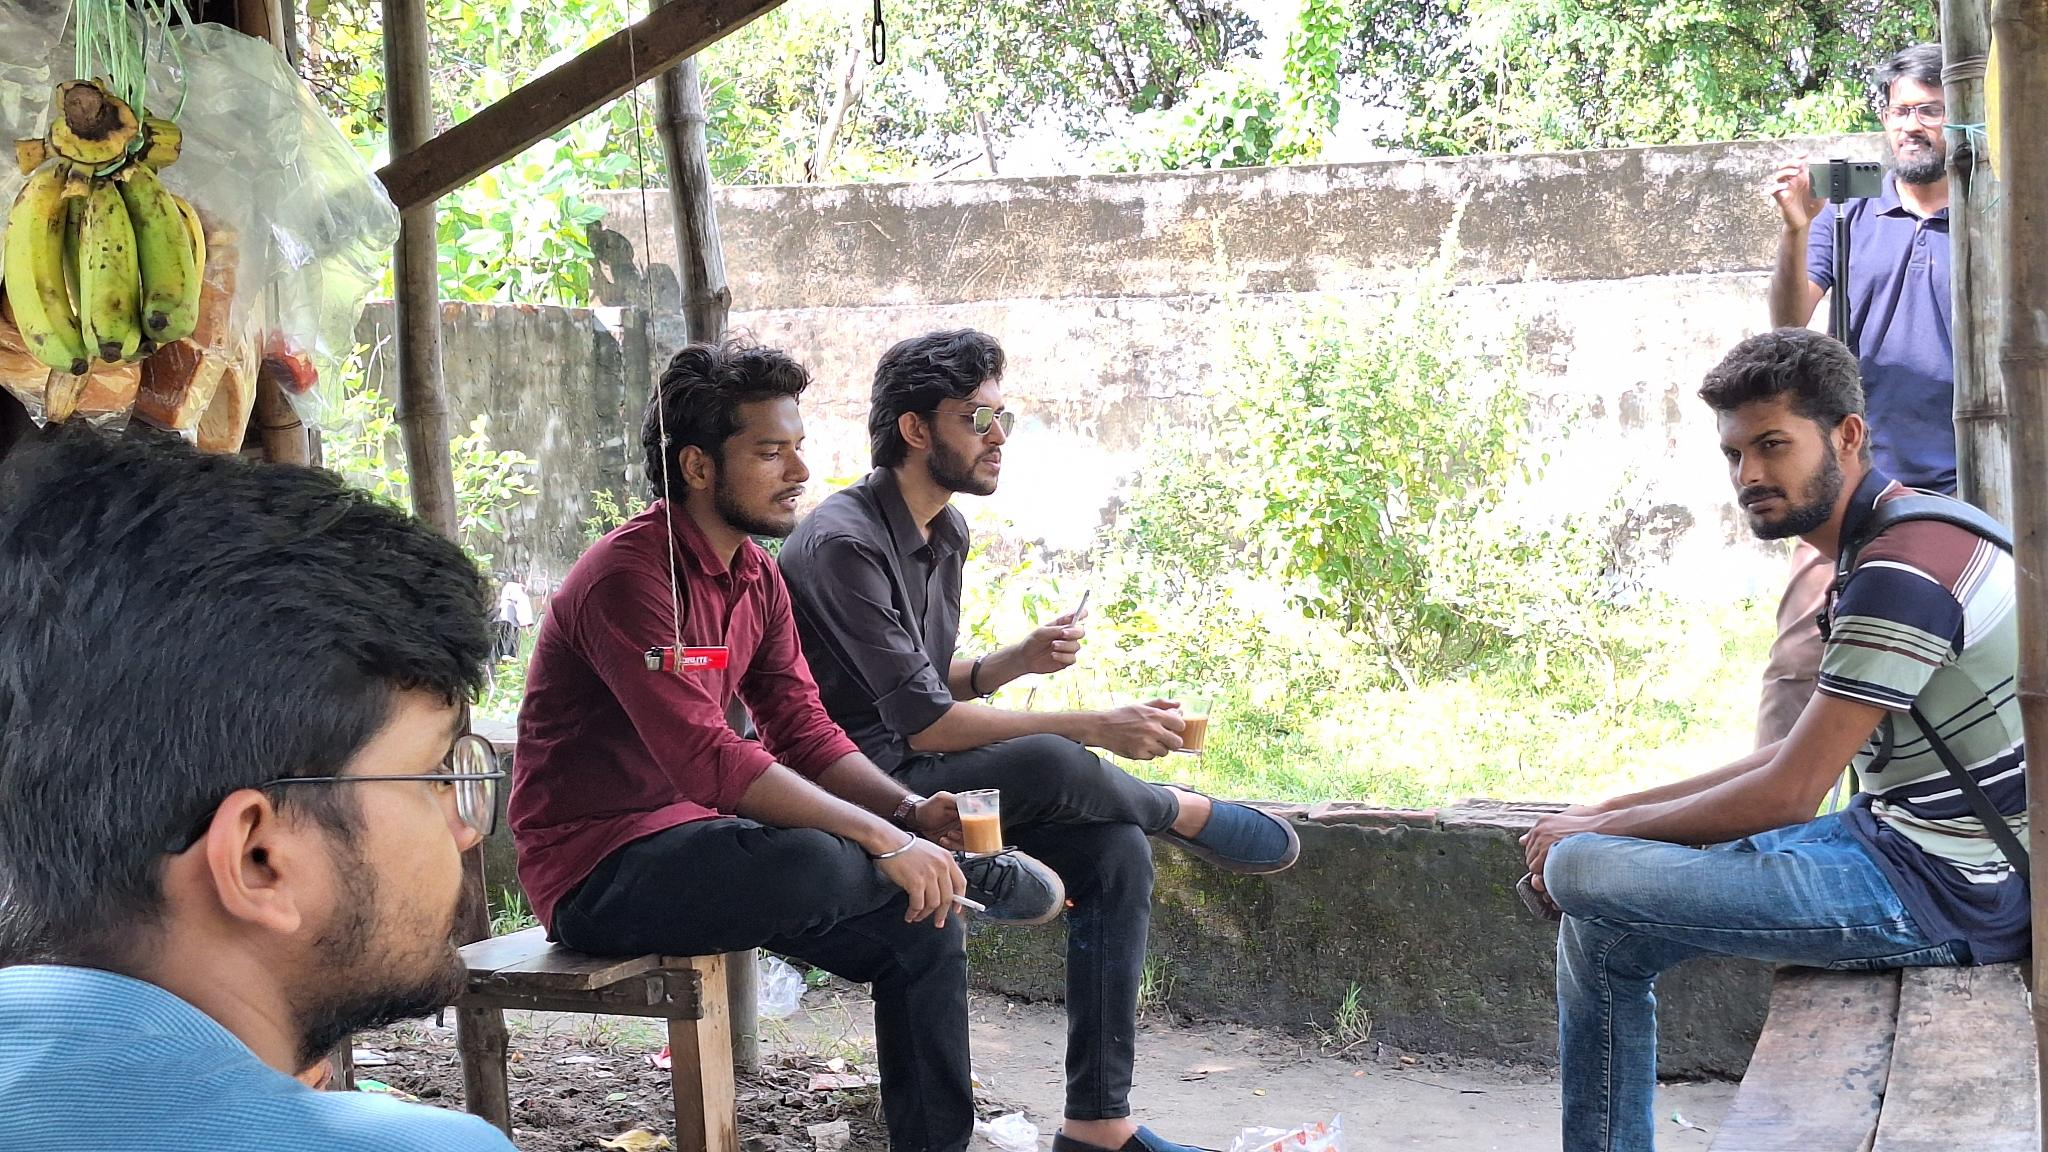cigarette: (1066, 588, 1093, 633), (949, 890, 989, 916)
nonSmoker: (1508, 319, 2048, 1152), (1, 432, 508, 1152), (1768, 35, 2006, 778)
smoker: (516, 338, 1069, 1152), (793, 324, 1300, 1152)
